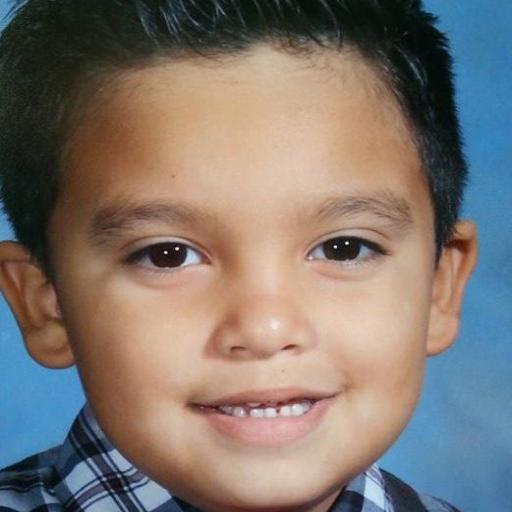Autism: (7, 1, 510, 502)
